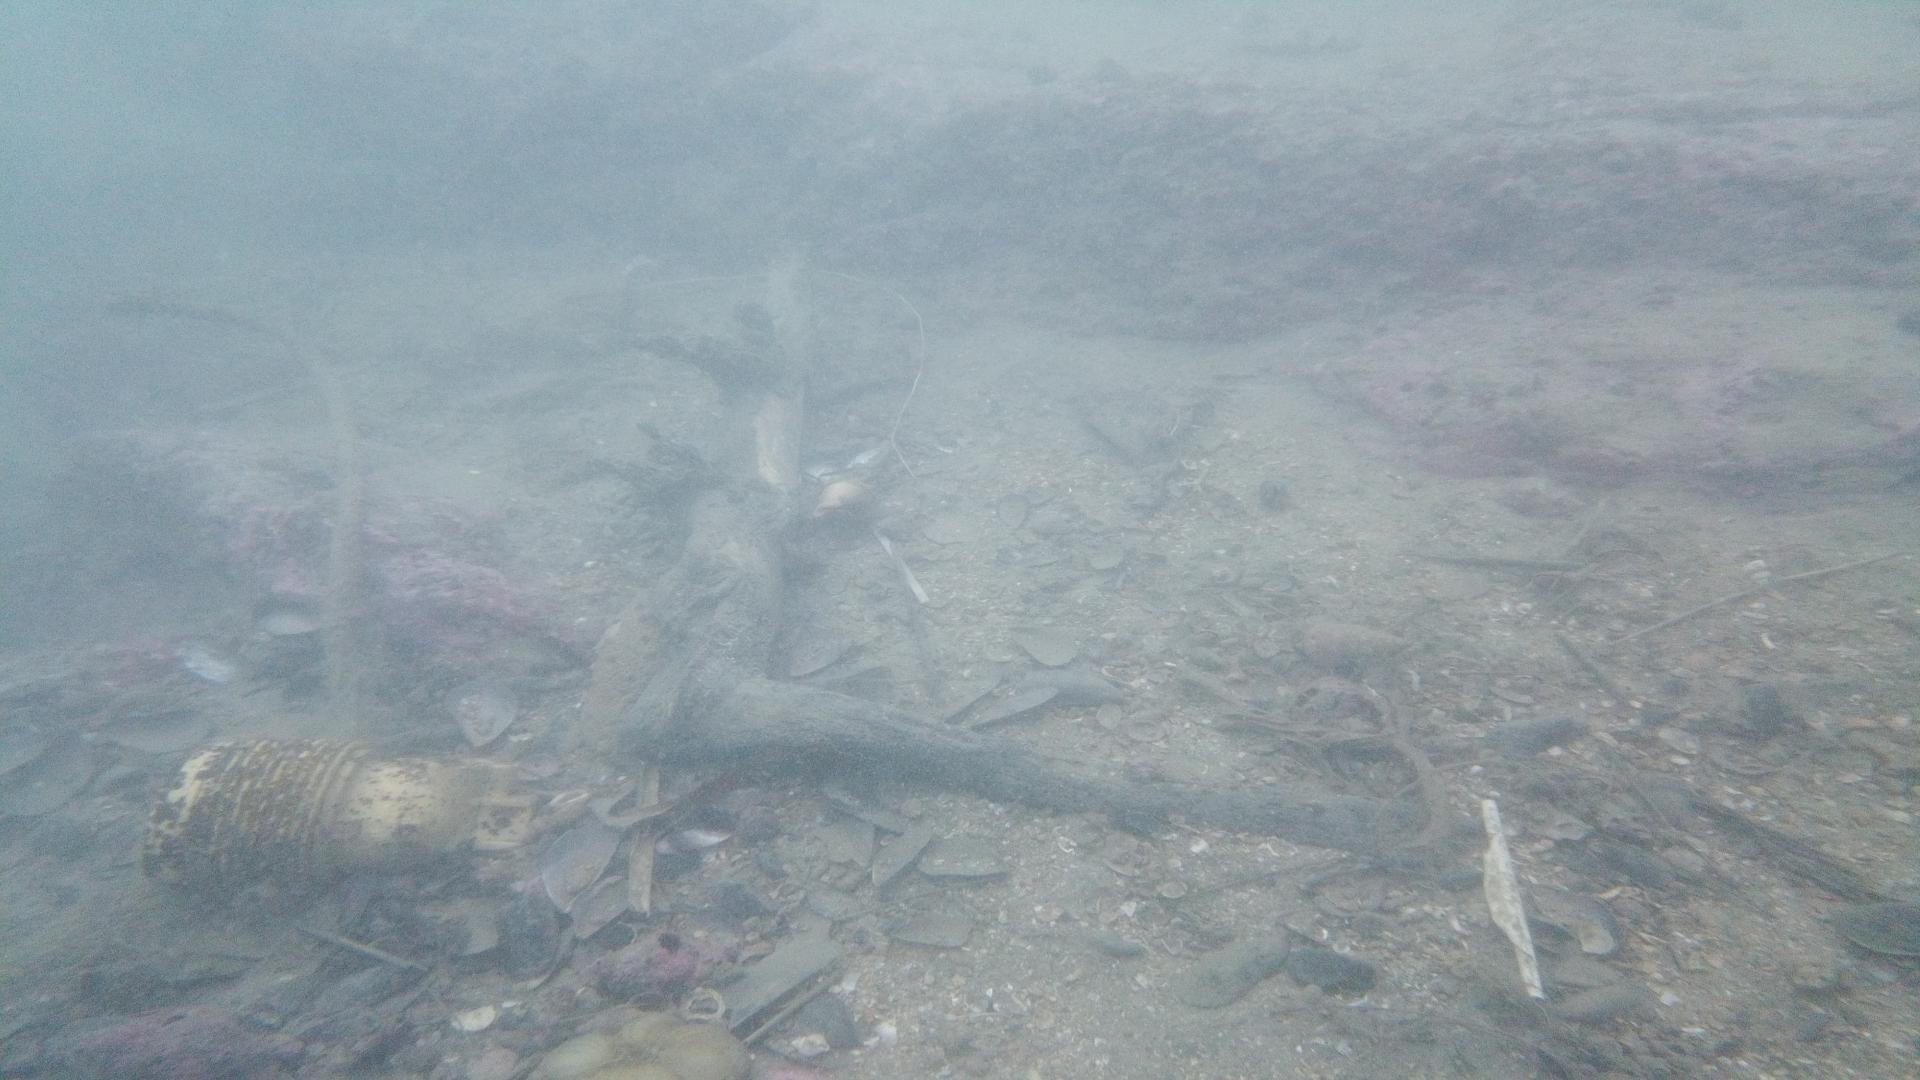rope: (136, 290, 357, 679)
wood: (574, 236, 1486, 866)
